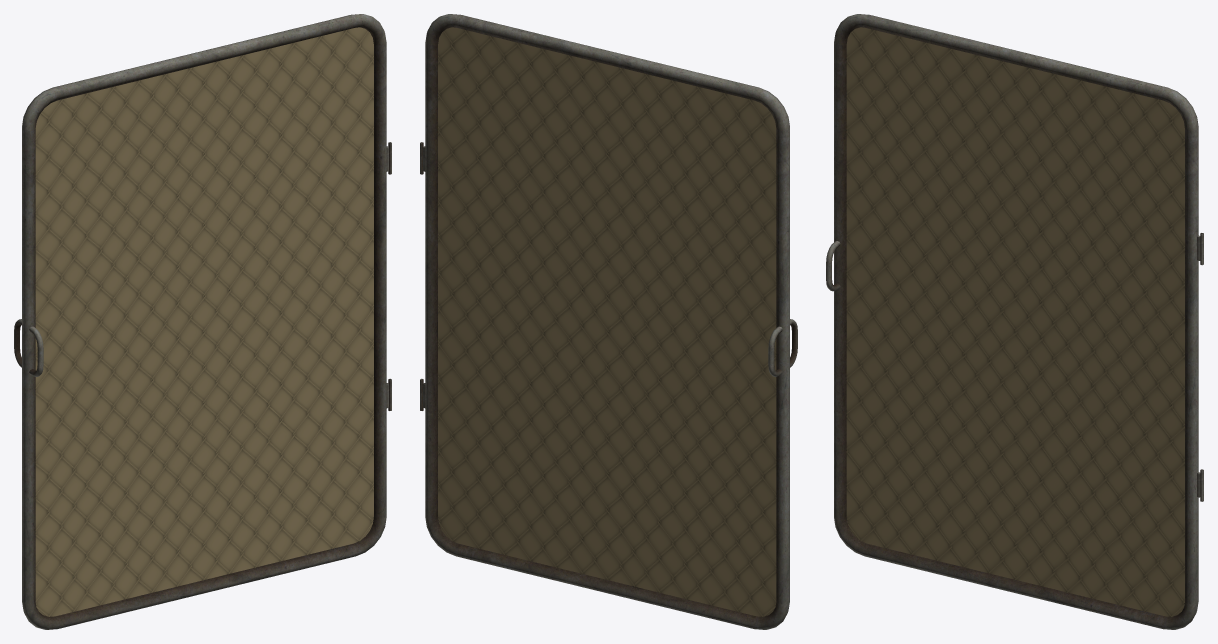
Rendered from swingdoor_fencing_round.dae.
3 renders of one model, left to right at view 1: azimuth 30°, elevation 25°; view 2: azimuth 150°, elevation 25°; view 3: azimuth 330°, elevation 25°, orthographic.
Parts seen in each view (by area): view 1: door_net, door_frame; view 2: door_net, door_frame; view 3: door_net, door_frame.
Part boxes in pixels (x1,y1,x2,y2): door_net: [35, 27, 373, 616]; door_frame: [14, 14, 388, 629]; door_net: [438, 27, 776, 616]; door_frame: [423, 14, 797, 629]; door_net: [846, 27, 1184, 616]; door_frame: [826, 14, 1200, 629].
Bounding box in the file's own units: 2.22 × 3.11 × 0.2755.
